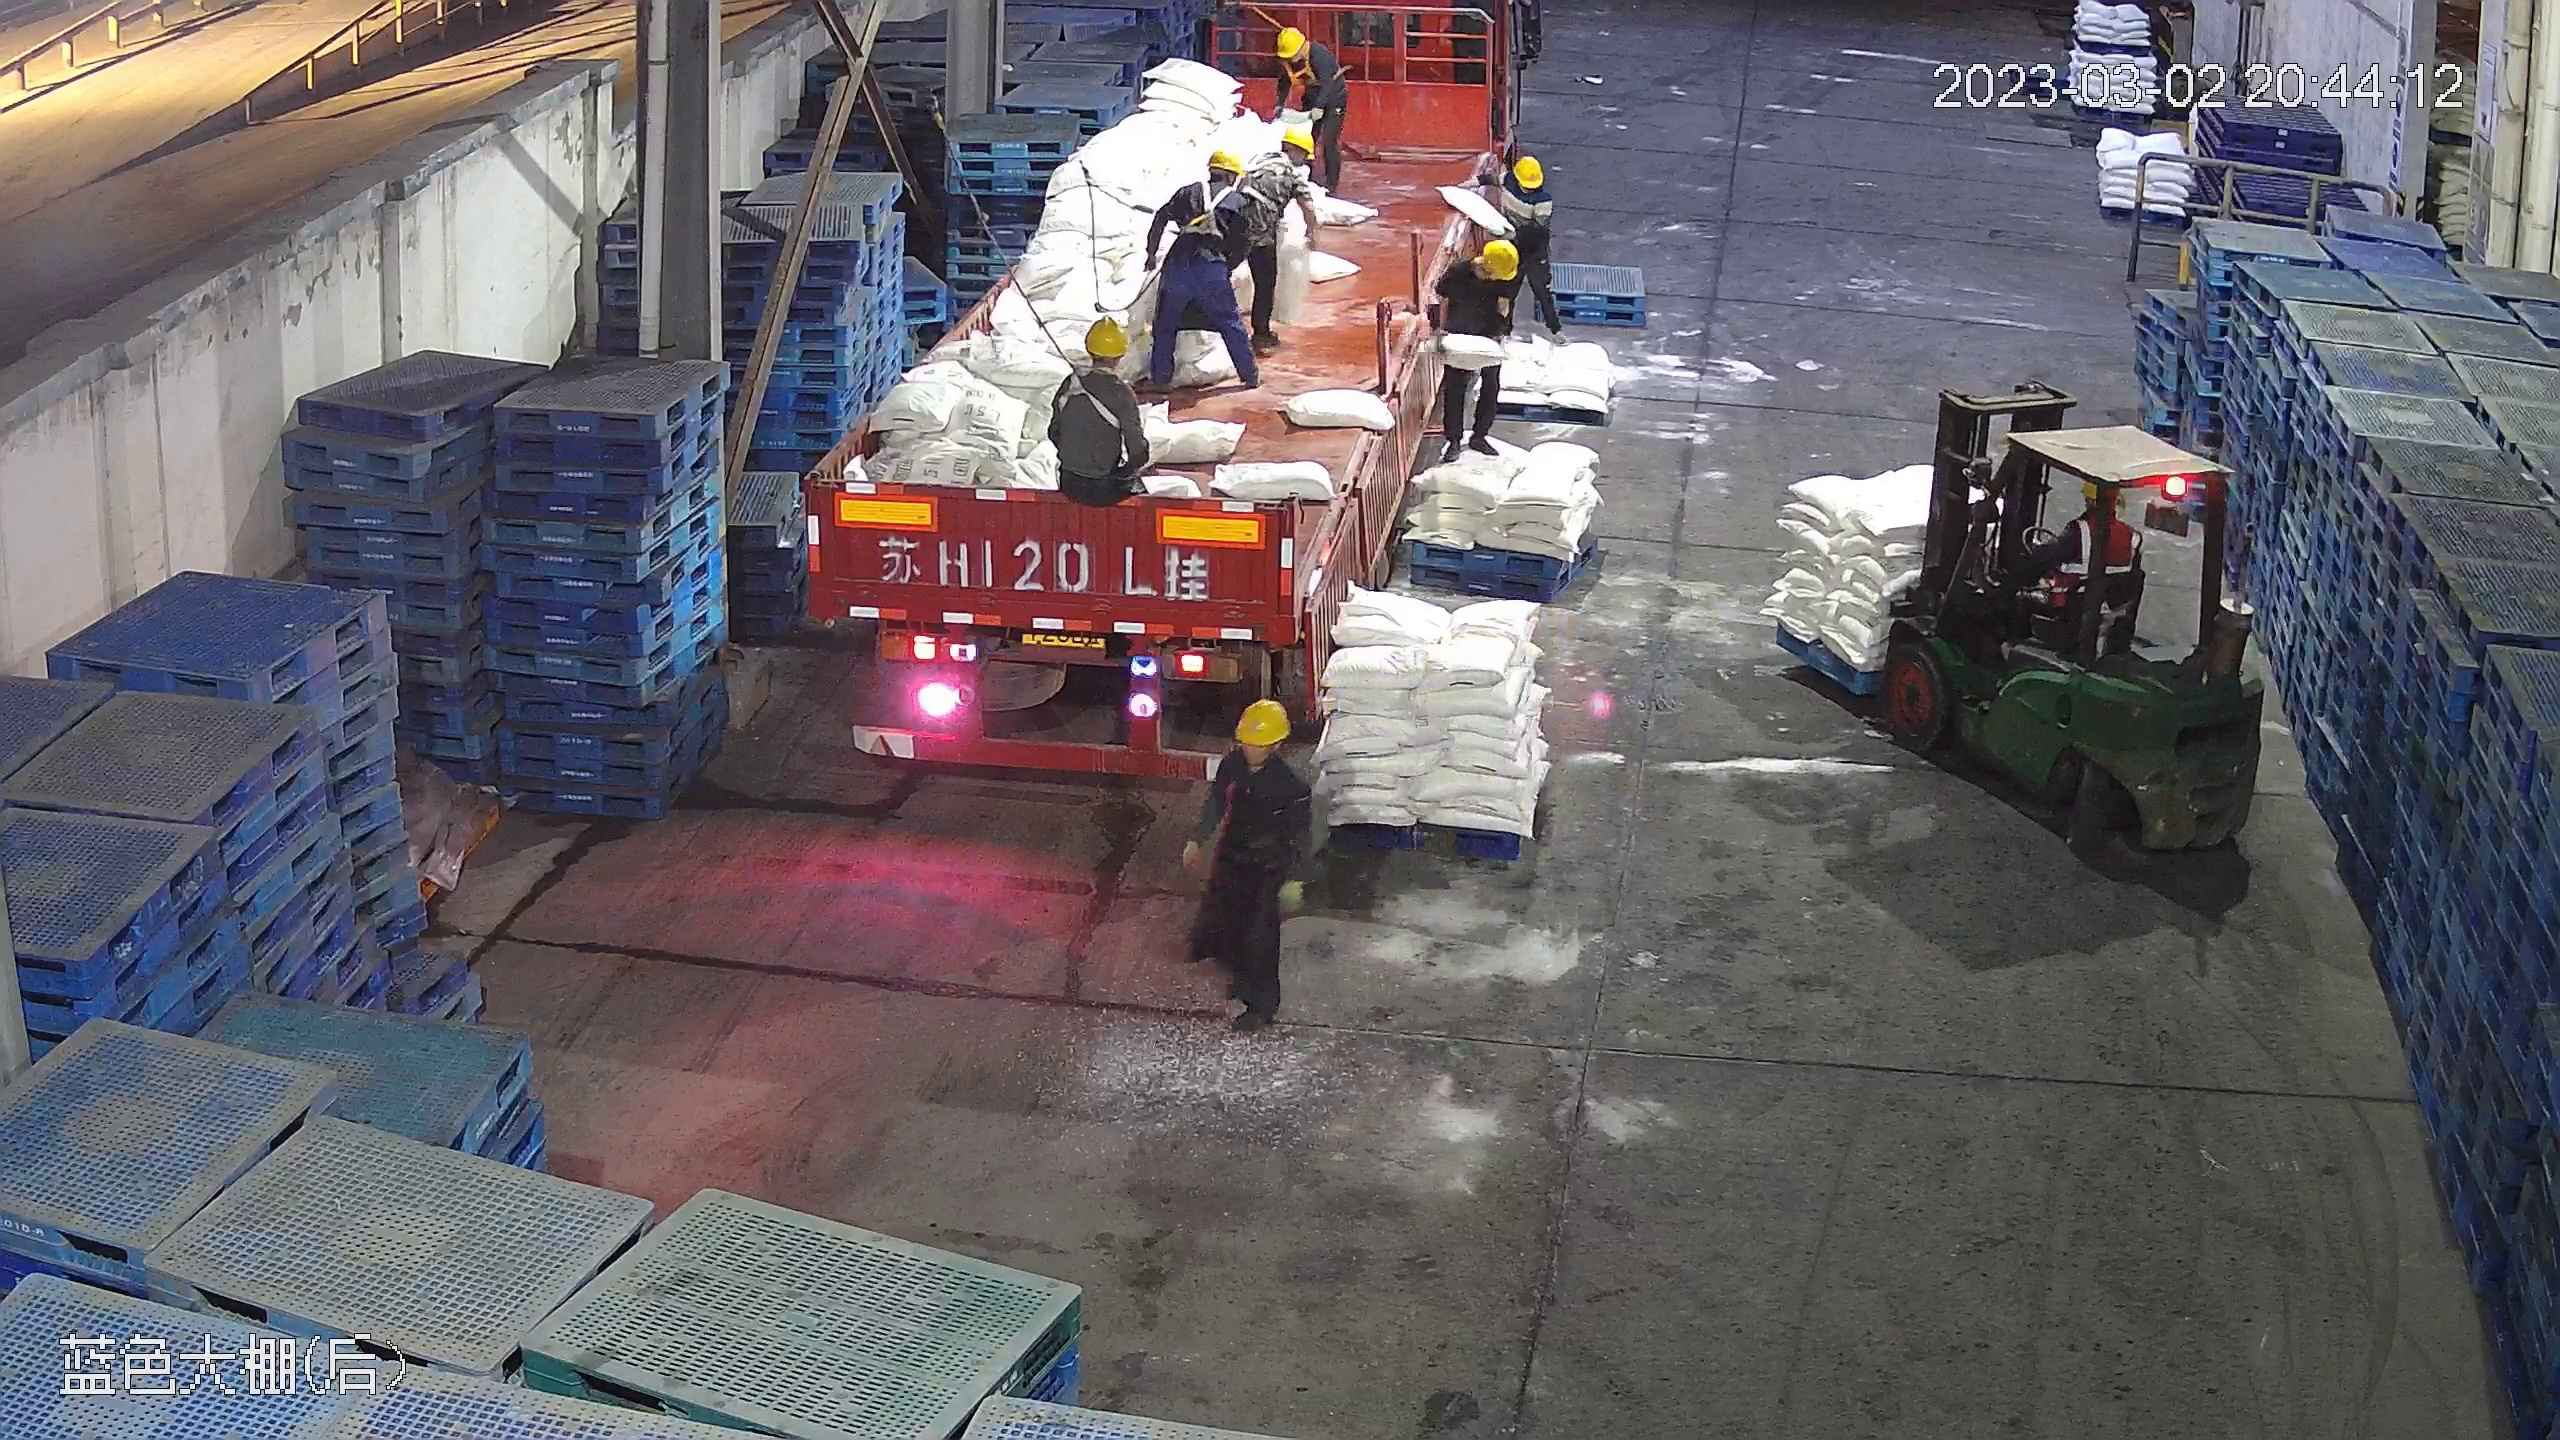belt: (1056, 348, 1134, 429), (1171, 185, 1234, 239), (1244, 146, 1293, 208), (1285, 49, 1327, 91)
head: (1212, 696, 1311, 813), (1054, 314, 1143, 412), (1167, 146, 1253, 225), (1432, 231, 1519, 308), (1474, 154, 1549, 219), (1248, 126, 1316, 194), (1272, 26, 1336, 87)
helmet: (1231, 696, 1292, 745), (1080, 315, 1134, 357), (1280, 126, 1318, 161), (1481, 241, 1517, 276), (1208, 148, 1249, 178), (1514, 156, 1542, 188), (1278, 25, 1308, 53)
people: (1187, 694, 1312, 1032), (1136, 145, 1264, 388), (1042, 314, 1154, 524), (1427, 234, 1520, 464), (1227, 135, 1313, 337), (1265, 27, 1346, 218), (1495, 157, 1575, 346)
truck: (805, 17, 1513, 795)
